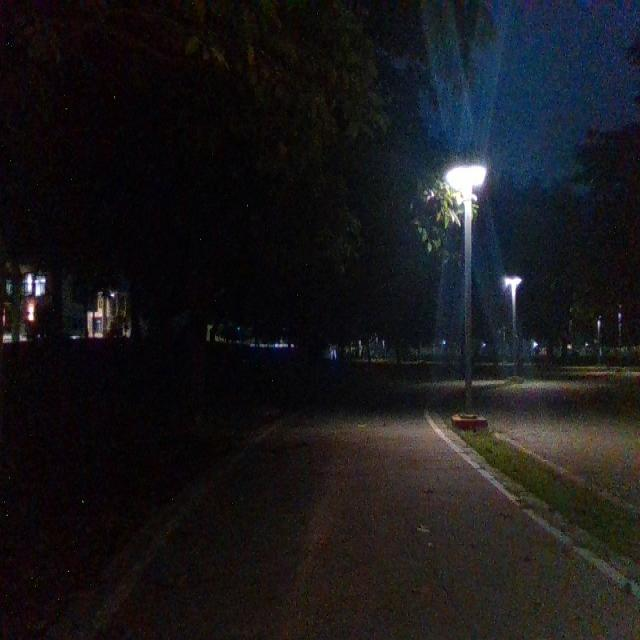lane: (107, 419, 639, 634)
